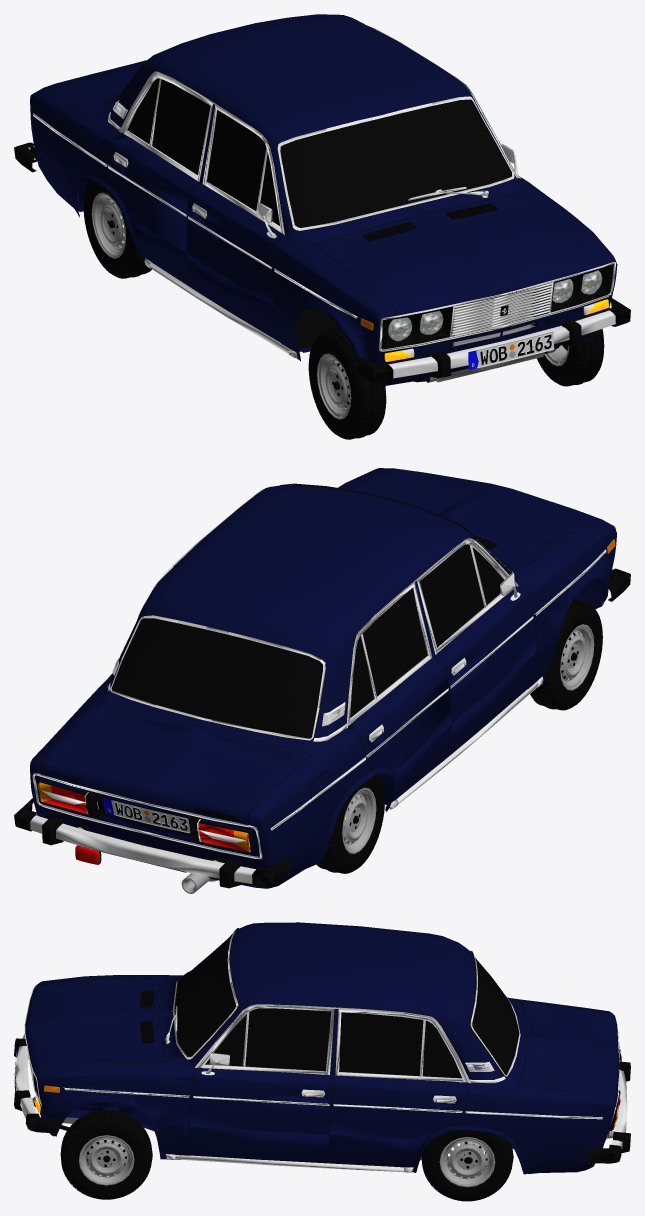
File: lada_2106.glb
The picture shows the model from 3 angles, top to bottom: view 1: azimuth 30°, elevation 25°; view 2: azimuth 150°, elevation 25°; view 3: azimuth 270°, elevation 25°; orthographic projection. The views are drawn at different scales.
Parts seen in each view (by area): view 1: Body, W_FL, W_FR, W_RL; view 2: Body, W_FL, W_RL; view 3: Body, W_FR, W_RR.
Boxes of the visible parts, x1,y1,x2,y2 form: Body: (14, 14, 630, 439); W_FL: (317, 329, 373, 438); W_FR: (537, 336, 591, 384); W_RL: (91, 192, 144, 277); Body: (14, 468, 630, 893); W_FL: (539, 600, 594, 709); W_RL: (323, 787, 376, 872); Body: (14, 922, 630, 1201); W_FR: (60, 1114, 152, 1185); W_RR: (421, 1137, 513, 1187).
Bounding box in the file's own units: 1.71 × 1.49 × 4.17.
89 materials, 1 textured.
